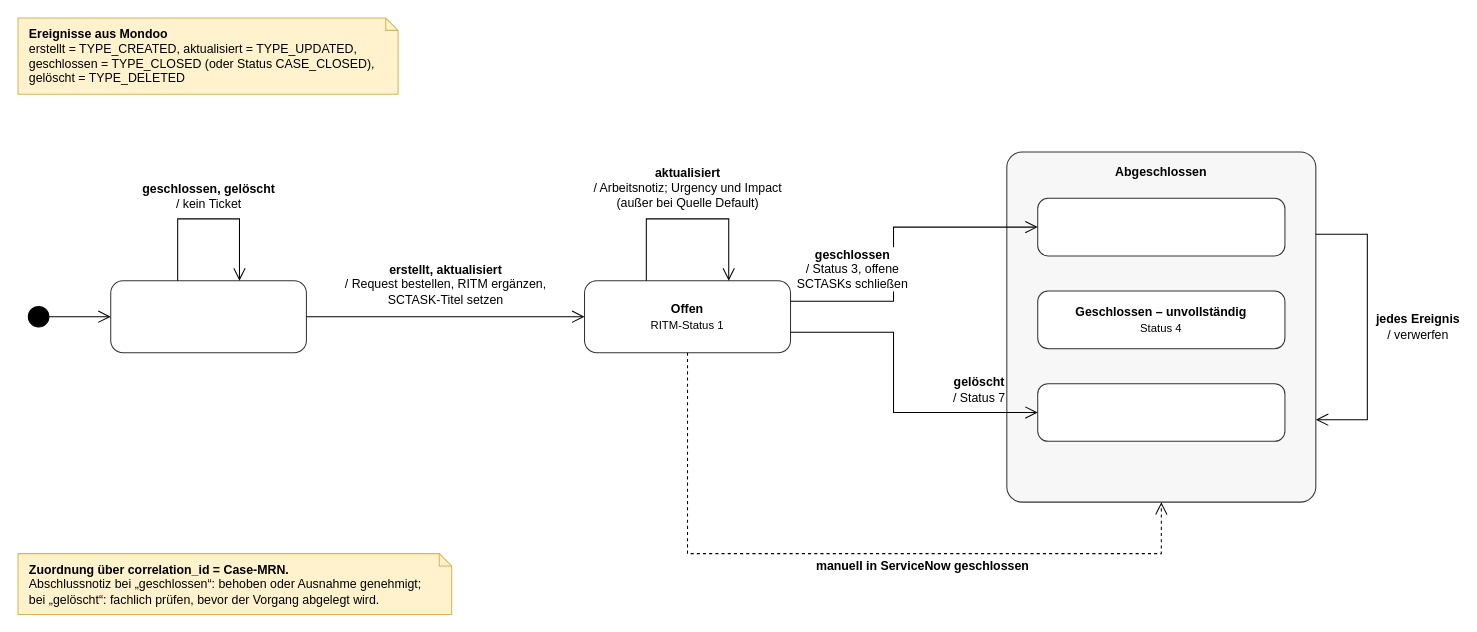
Image size: 1477x632. Some labels were removed from this diagram. The box of each missing label's shape, as (x1, y1, x2, y2) in pixels:
Geschlossen – abgeschlossen Status 3: (1037, 197, 1285, 256)
Geschlossen – übersprungen Status 7: (1037, 383, 1285, 441)
Kein RITM Case ohne Ticket: (110, 280, 306, 353)
